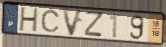1: (109, 13, 118, 39)
9: (128, 15, 145, 41)
C: (40, 9, 61, 34)
H: (19, 6, 40, 33)
V: (61, 7, 84, 38)
Z: (83, 10, 104, 39)
